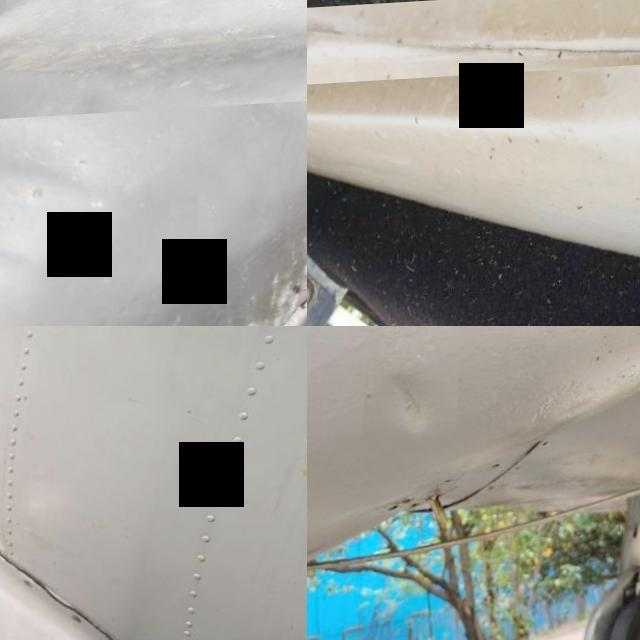Crack: (307, 23, 640, 65), (34, 582, 86, 619)
Dent: (0, 0, 307, 123), (0, 116, 142, 247), (366, 354, 464, 452), (0, 196, 72, 312)
Missing_Fastener: (26, 580, 40, 590)
